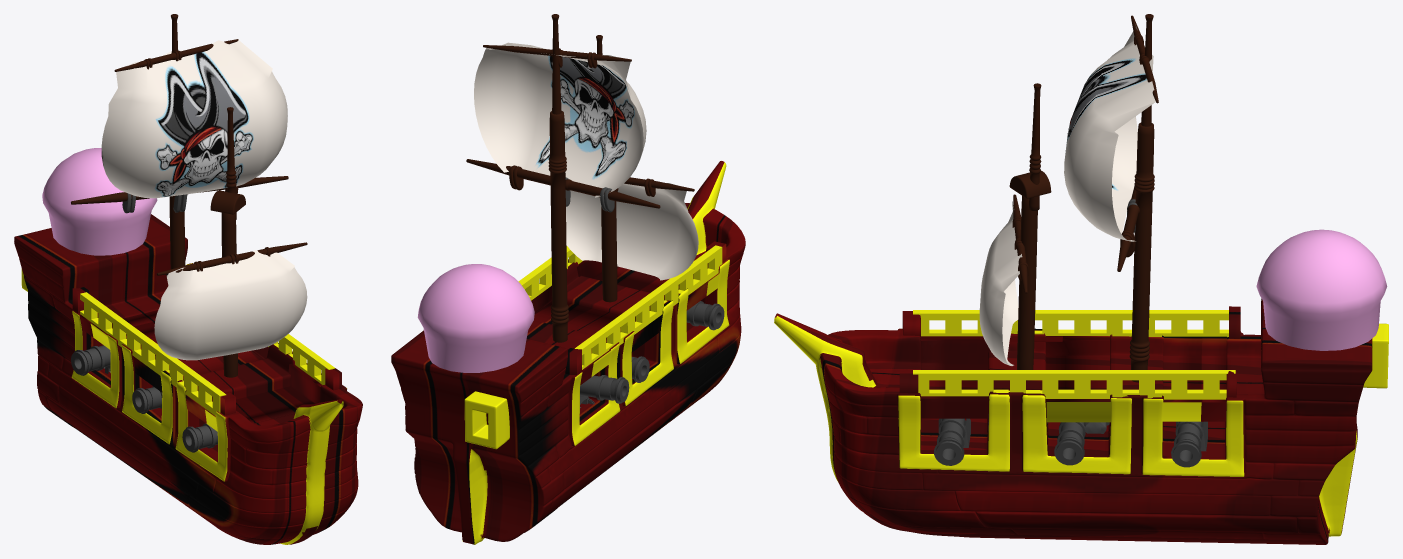
The model's file is enemy 2fi.fbx.
3 renders of one model, left to right at view 1: azimuth 30°, elevation 25°; view 2: azimuth 150°, elevation 25°; view 3: azimuth 270°, elevation 25°, orthographic. The views are drawn at different scales.
Parts seen in each view (by area): view 1: pasted__polySurface221, pasted__CABINA; view 2: pasted__polySurface221, pasted__CABINA; view 3: pasted__polySurface221, pasted__CABINA.
Part boxes in pixels (x1,y1,x2,y2): pasted__polySurface221: (14, 14, 362, 544); pasted__CABINA: (42, 148, 157, 255); pasted__polySurface221: (391, 14, 745, 544); pasted__CABINA: (417, 264, 534, 372); pasted__polySurface221: (774, 14, 1388, 544); pasted__CABINA: (1256, 229, 1387, 350).
Bounding box in the file's own units: 3.66 × 7.89 × 8.49.
2 materials, 1 textured.
